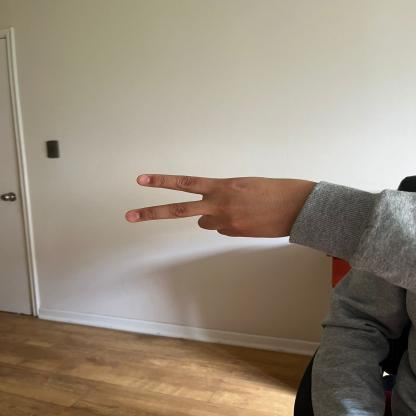H: (122, 167, 322, 244)
